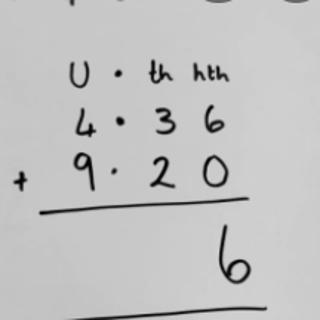.: (111, 112, 127, 130), (109, 66, 123, 83), (108, 163, 121, 177)
0: (199, 152, 231, 185)
2: (151, 156, 174, 189)
3: (151, 106, 173, 143)
4: (75, 105, 96, 139)
6: (218, 222, 253, 284), (206, 103, 227, 136)
9: (71, 152, 94, 193)
